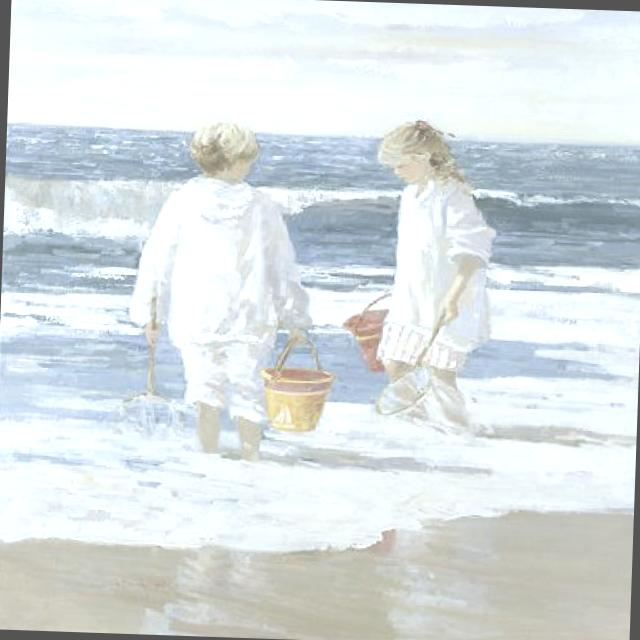Person: (137, 106, 310, 468), (370, 120, 495, 430)
